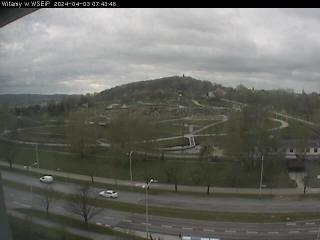car: (98, 188, 118, 200), (38, 174, 54, 184)
